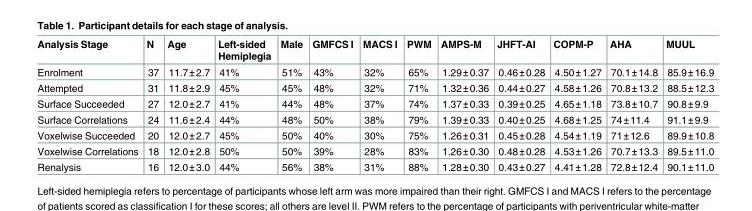table: (36, 37, 713, 172)
table column: (36, 37, 141, 172), (213, 37, 275, 172), (435, 37, 492, 172), (604, 37, 661, 172), (492, 37, 548, 172), (548, 37, 604, 172), (661, 37, 713, 172), (162, 37, 213, 172), (306, 37, 357, 172), (357, 37, 401, 172), (401, 37, 435, 172), (275, 37, 306, 172), (141, 37, 162, 172)
table column header: (36, 37, 713, 63)
table row: (36, 37, 713, 63), (36, 63, 713, 79), (36, 79, 713, 95), (36, 95, 713, 111), (36, 126, 713, 142), (36, 142, 713, 158), (36, 111, 713, 126), (36, 158, 713, 172)
